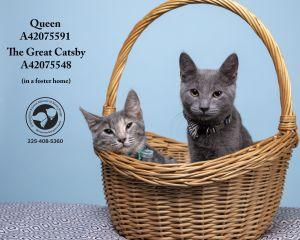rblue: (175, 49, 245, 125)
